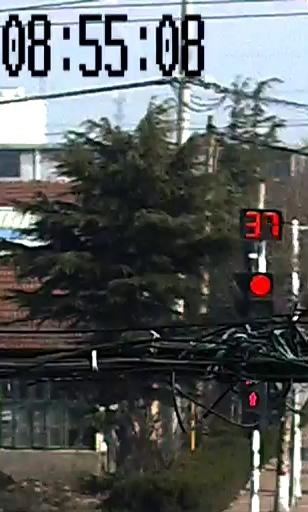red: (249, 274, 274, 298)
redpeople: (239, 381, 261, 411)
redtime: (246, 204, 281, 245)
